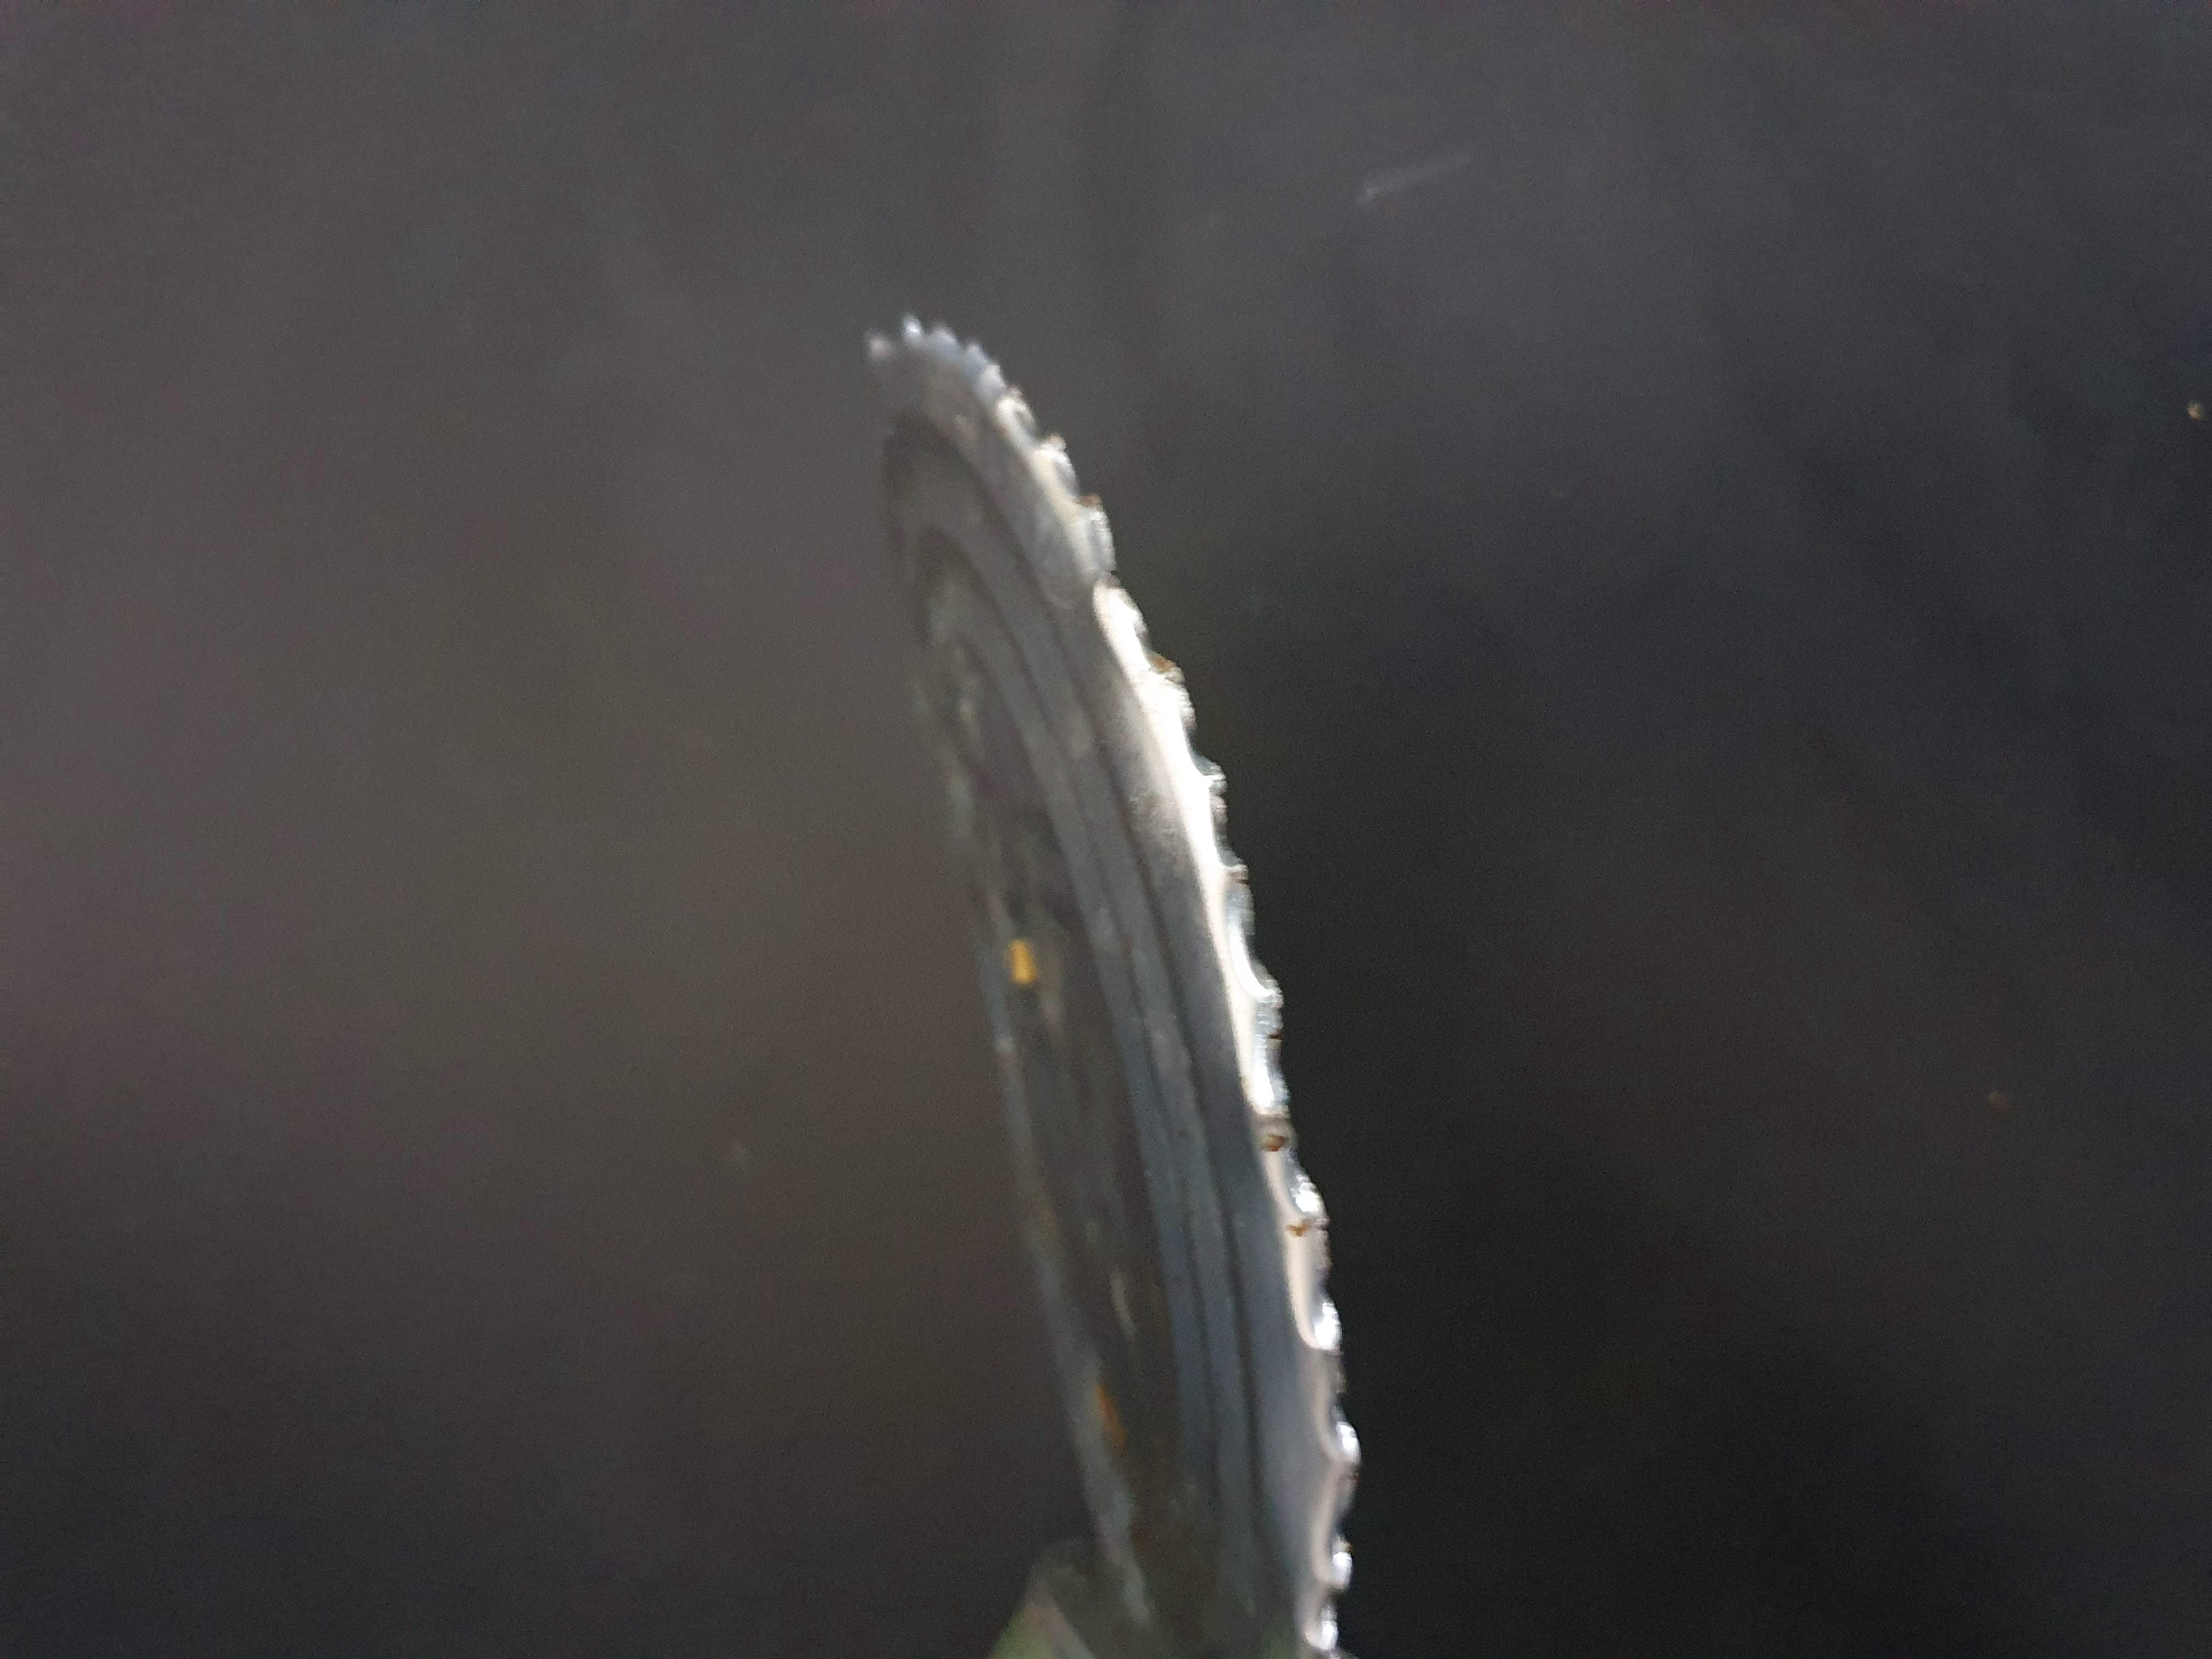metal: (719, 247, 1463, 1659)
